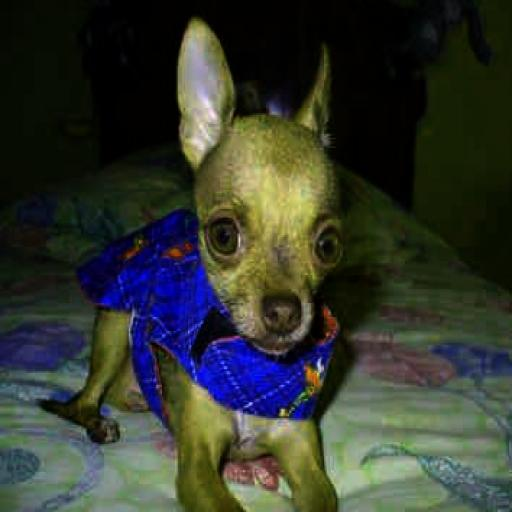dog_face: (175, 26, 362, 355)
